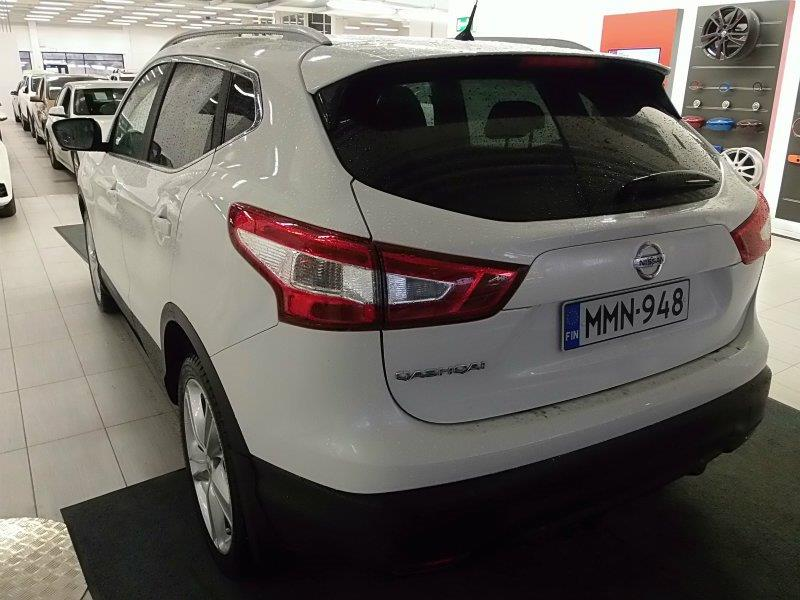license: (556, 279, 686, 360)
